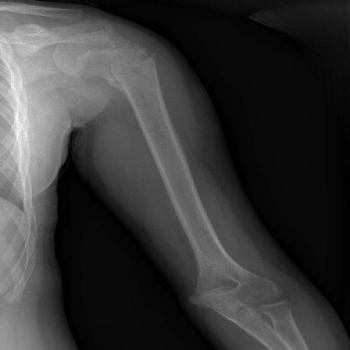Fracture: (131, 46, 165, 72)
